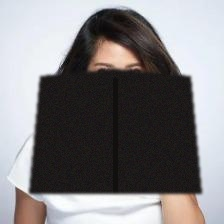Cadar_Niqab: (29, 7, 201, 193)
